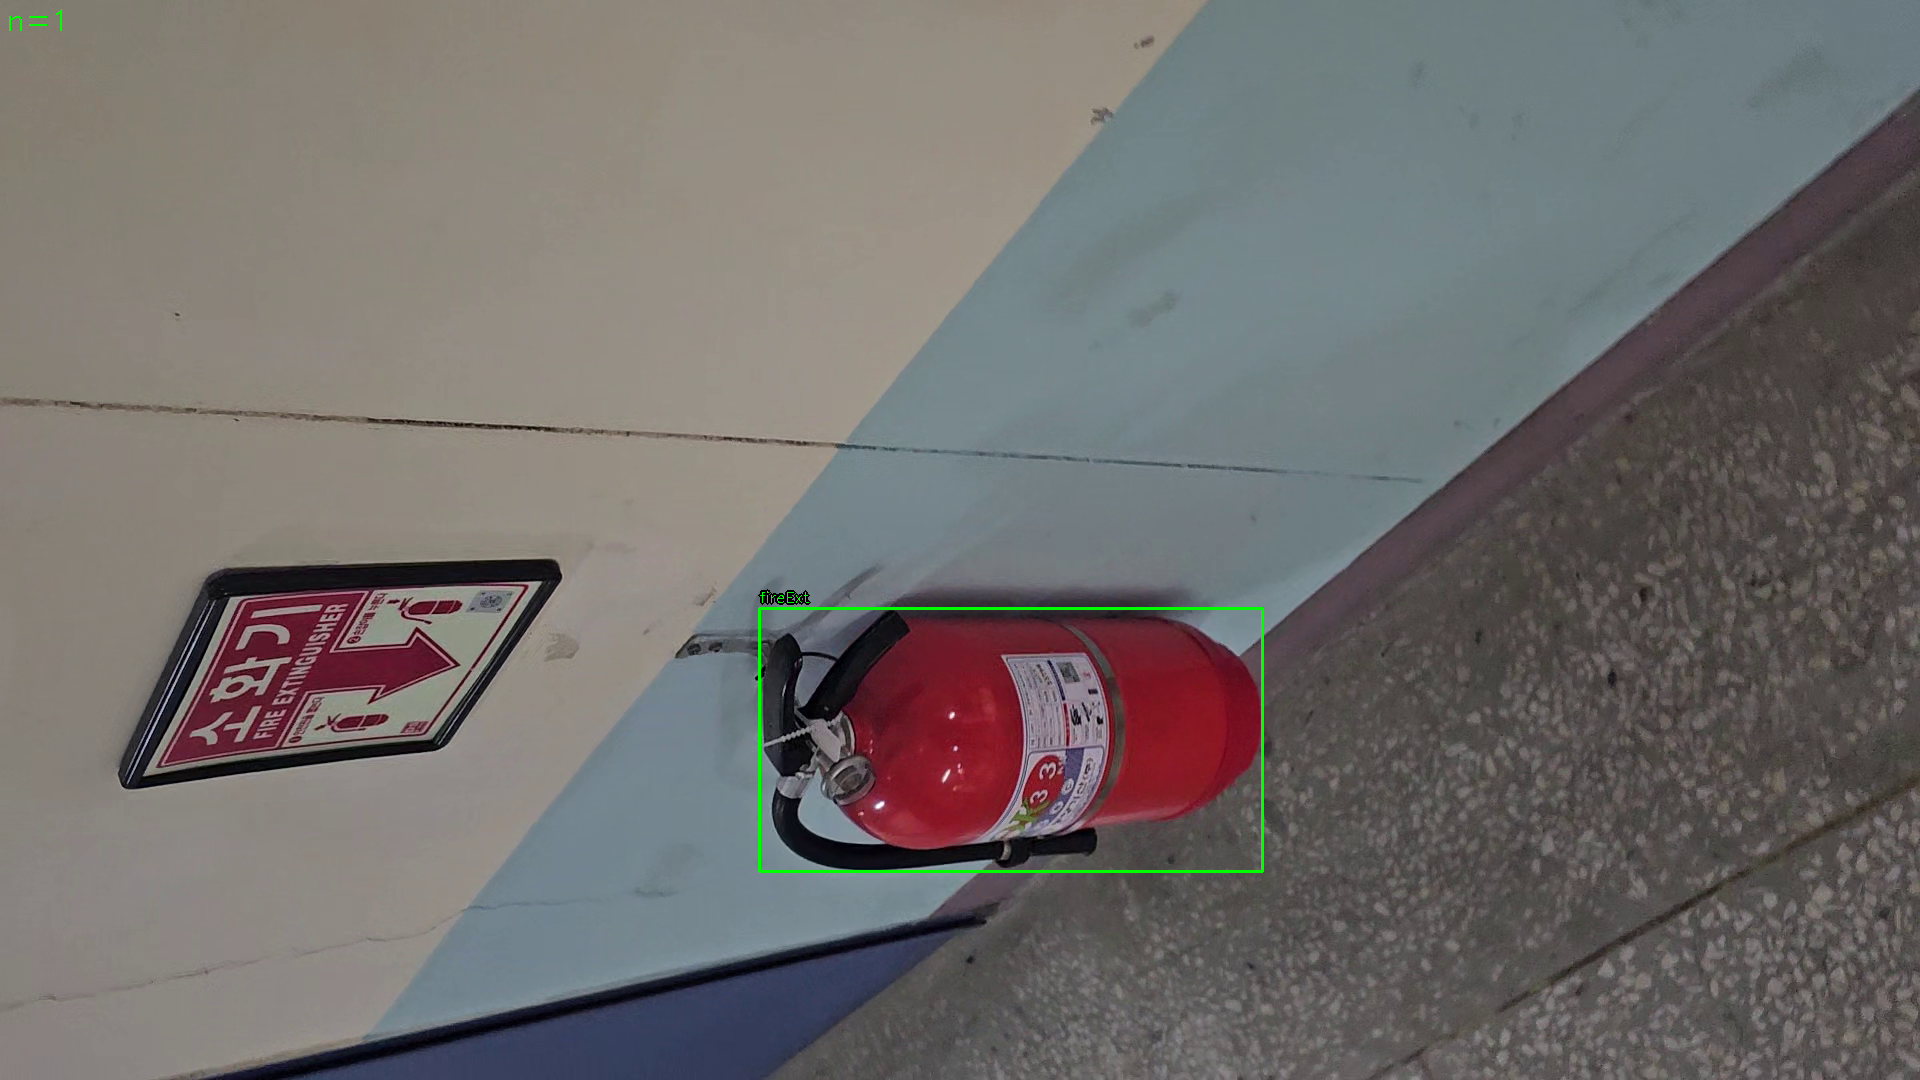lane: (760, 608, 1263, 872)
